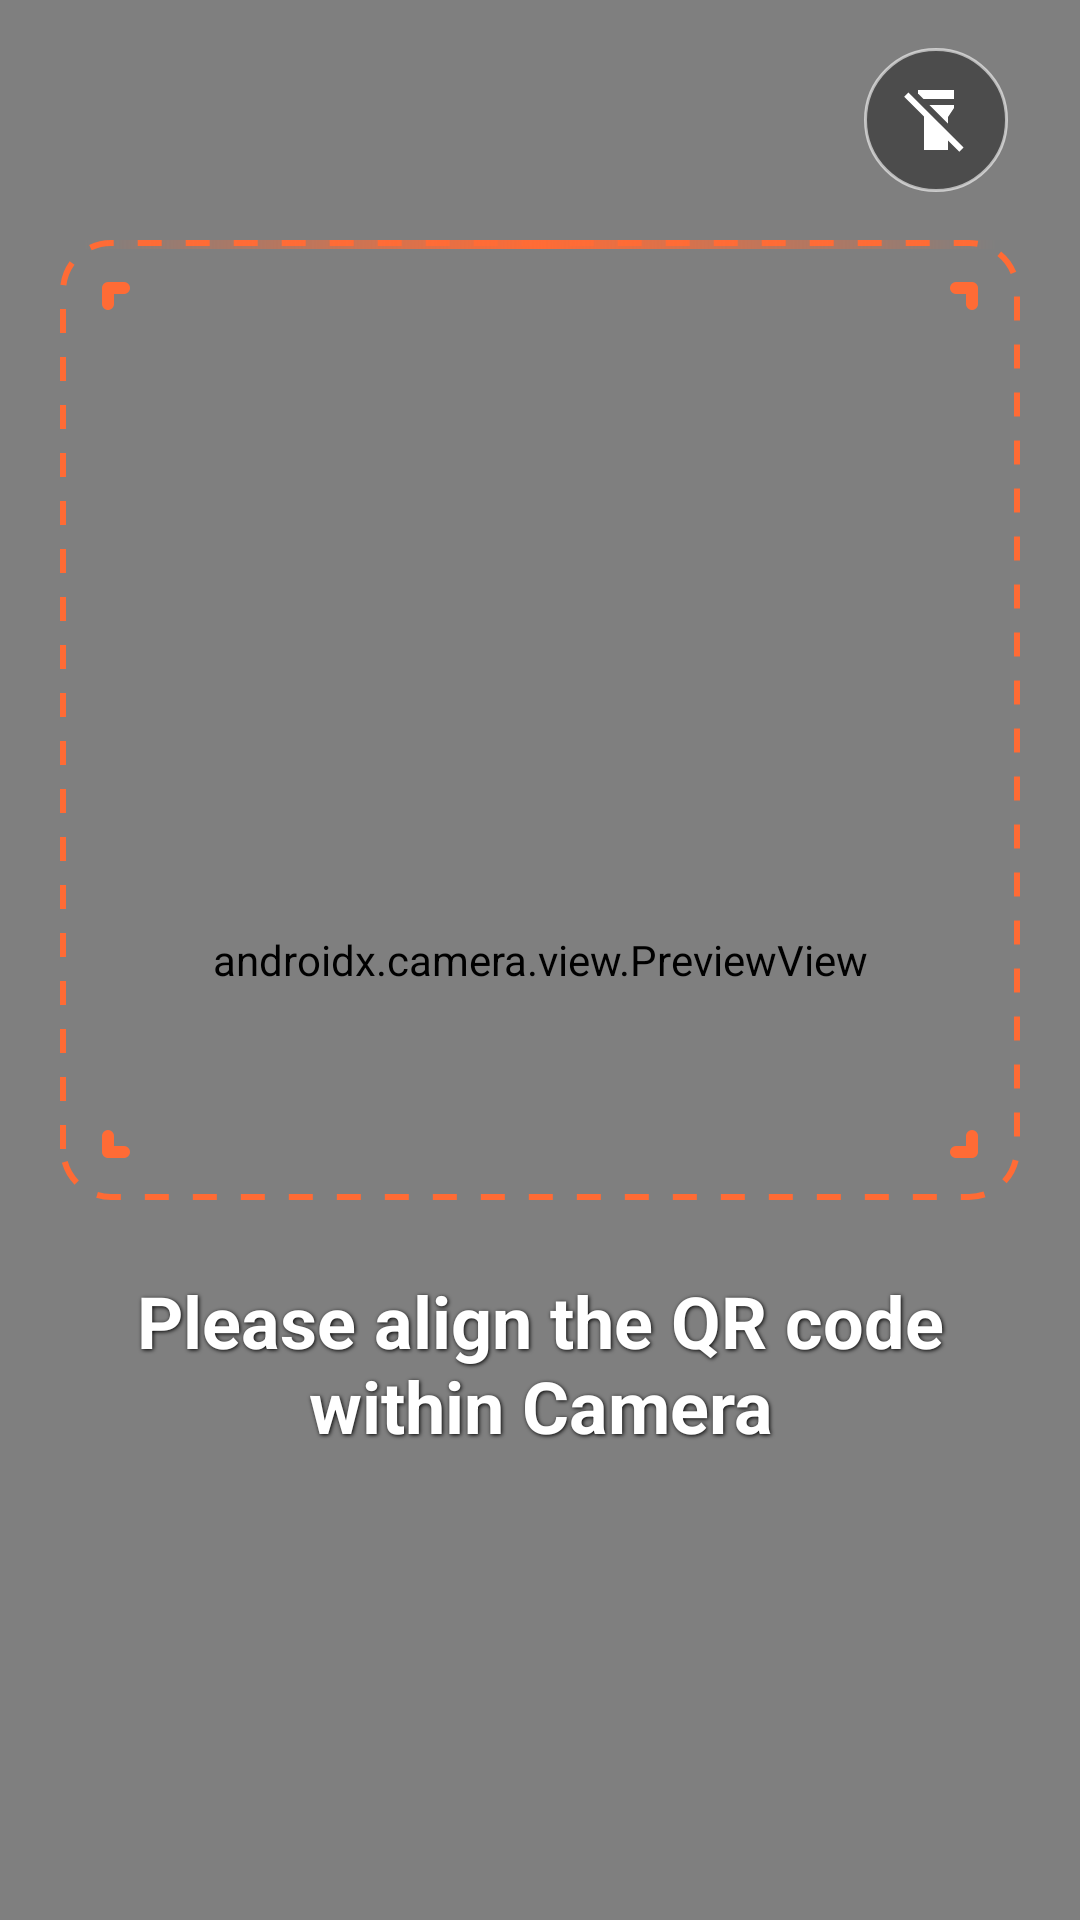

Where to tap for icons on this 1080 × 1920 app screen, as (x=x, y=y):
corner bottom left: (x=116, y=1144)
corner bottom right: (x=964, y=1144)
corner top left: (x=116, y=296)
corner top right: (x=964, y=296)
Toggle Flash: (x=936, y=120)
